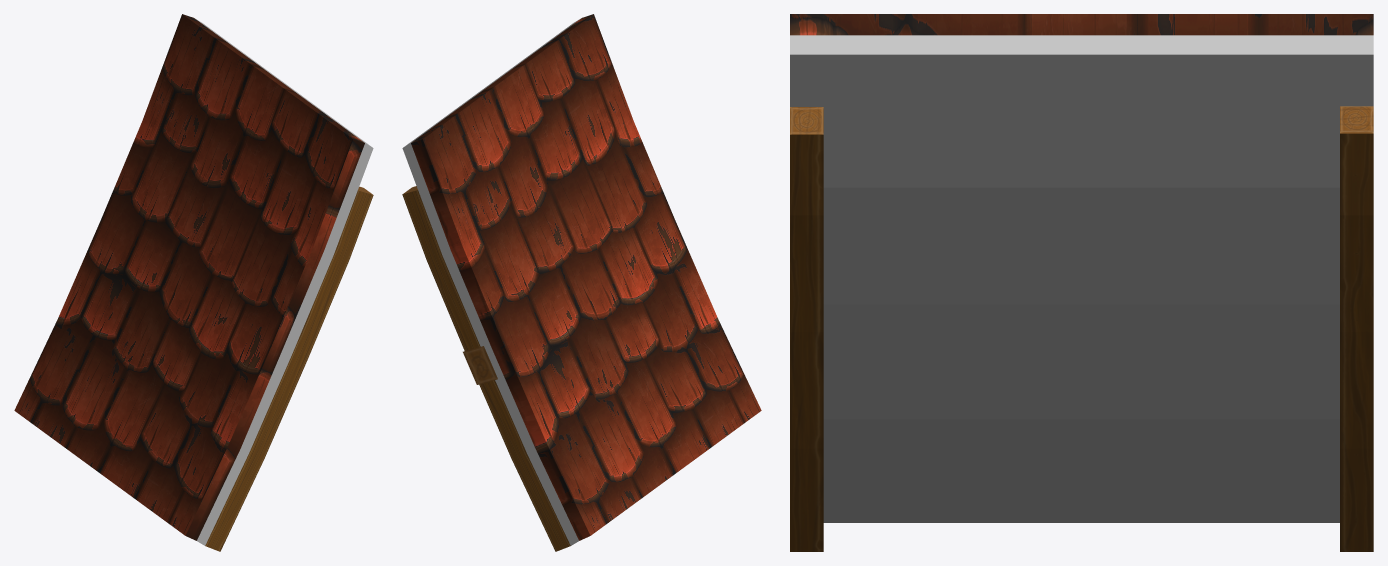
File: SM_House_Roof_01_Tiling_Half_TopExtended.fbx
The picture shows the model from 3 angles, left to right: view 1: azimuth 30°, elevation 25°; view 2: azimuth 150°, elevation 25°; view 3: azimuth 270°, elevation 25°; orthographic projection. The views are drawn at different scales.
Parts seen in each view (by area): view 1: SM_House_Roof_01_Tiling_Half_TopExtended; view 2: SM_House_Roof_01_Tiling_Half_TopExtended; view 3: SM_House_Roof_01_Tiling_Half_TopExtended.
Boxes of the visible parts, <box> form: SM_House_Roof_01_Tiling_Half_TopExtended: <box>14,14,373,551</box>; SM_House_Roof_01_Tiling_Half_TopExtended: <box>402,14,761,551</box>; SM_House_Roof_01_Tiling_Half_TopExtended: <box>790,14,1373,551</box>.
Size of the model in its own units: 1.59 by 3.07 by 2.5.
